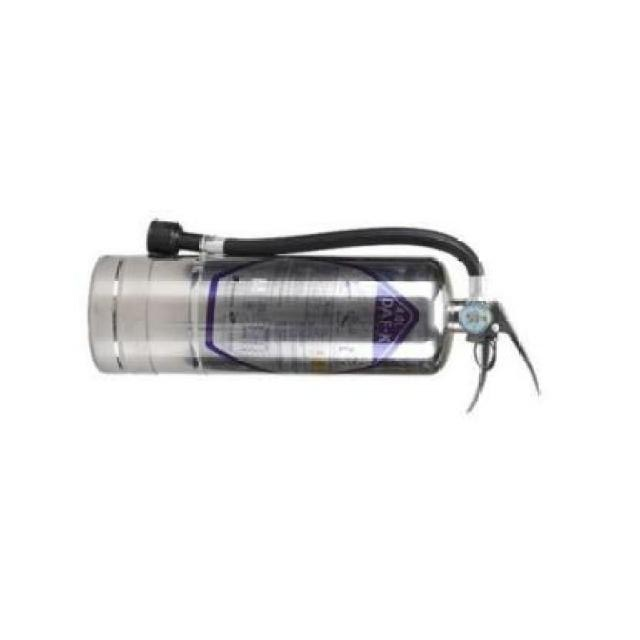fire extinguisher: (89, 218, 543, 413)
